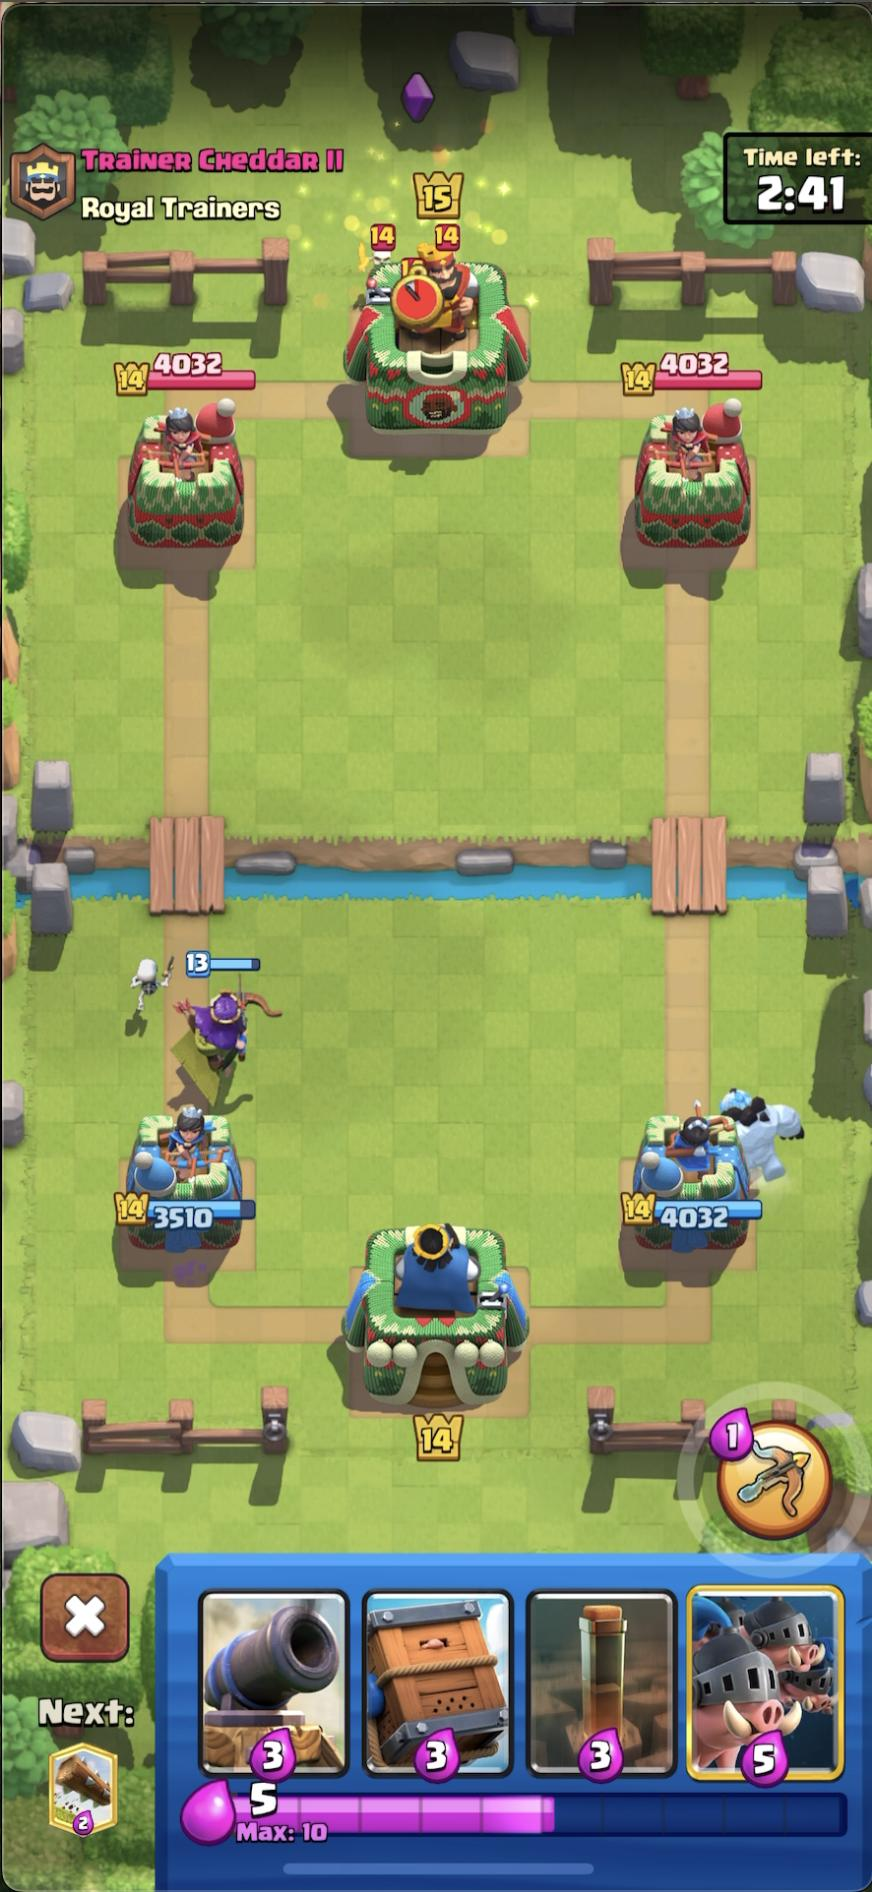elixir bar: (179, 1776, 361, 1847)
timer: (722, 130, 872, 224)
